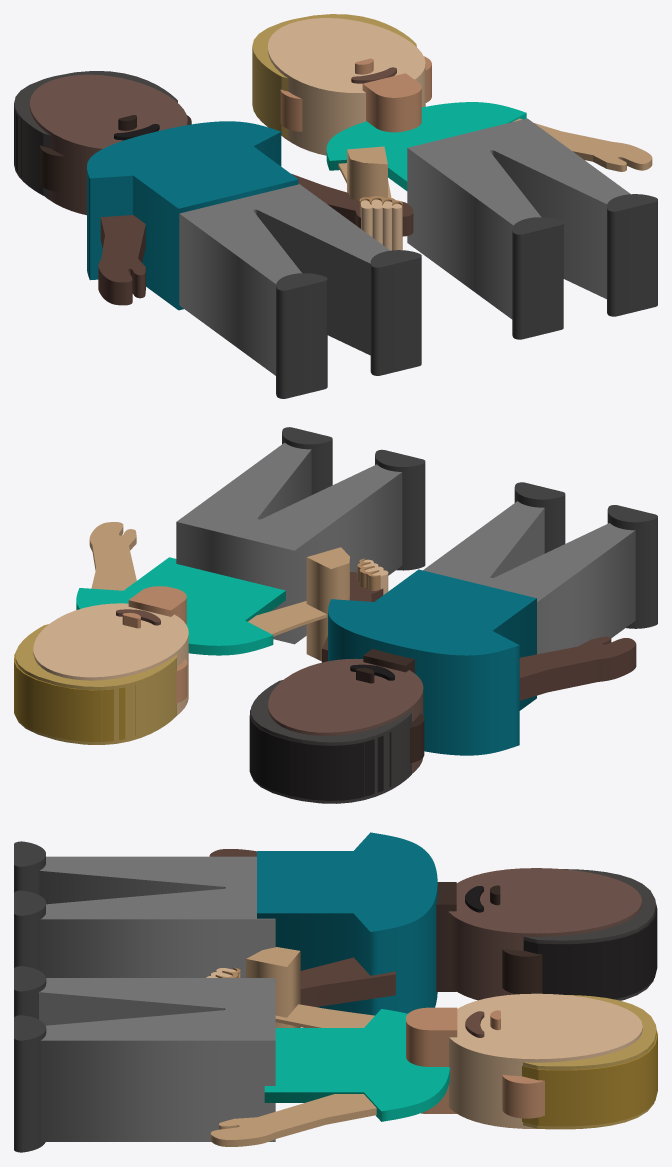
Rendered from emoji_u1f468_1f3ff_200d_1f91d_200d_1f468_1f3fc.glb.
3 renders of one model, top to bottom at view 1: azimuth 30°, elevation 25°; view 2: azimuth 150°, elevation 25°; view 3: azimuth 270°, elevation 25°, orthographic. The views are drawn at different scales.
Visible parts, largest first — view 1: emoji_u1f468_1f3ff_200d_1f91d_200d_1f468_1f3fc; view 2: emoji_u1f468_1f3ff_200d_1f91d_200d_1f468_1f3fc; view 3: emoji_u1f468_1f3ff_200d_1f91d_200d_1f468_1f3fc.
Boxes of the visible parts, <box> form: emoji_u1f468_1f3ff_200d_1f91d_200d_1f468_1f3fc: <box>14,14,657,398</box>; emoji_u1f468_1f3ff_200d_1f91d_200d_1f468_1f3fc: <box>14,427,657,803</box>; emoji_u1f468_1f3ff_200d_1f91d_200d_1f468_1f3fc: <box>14,832,657,1152</box>.
Size of the model in its own units: 0.0346 by 0.0066 by 0.0334.
